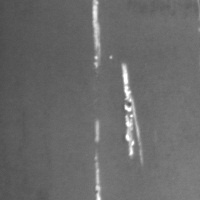scratches: (119, 61, 148, 159), (90, 119, 107, 200), (88, 1, 106, 71)
